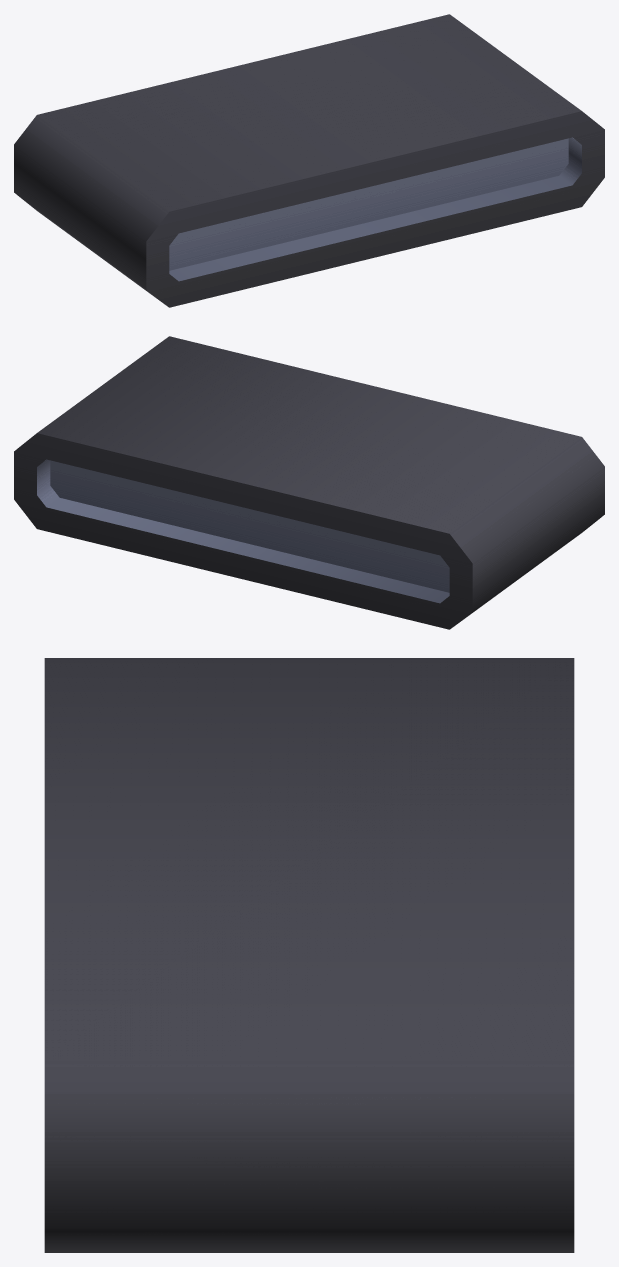
The model's file is conveyor-long.glb.
3 views of the same model, one above another, from view 1: azimuth 30°, elevation 25°; view 2: azimuth 150°, elevation 25°; view 3: azimuth 270°, elevation 25° (orthographic). The views are drawn at different scales.
Visible parts, largest first — view 1: conveyor-long; view 2: conveyor-long; view 3: conveyor-long.
Part boxes in pixels (x1,y1,x2,y2): conveyor-long: [14, 14, 604, 307]; conveyor-long: [14, 336, 604, 629]; conveyor-long: [44, 658, 574, 1252].
Bounding box in the file's own units: 2 × 0.4 × 1.
1 material, 1 textured.
